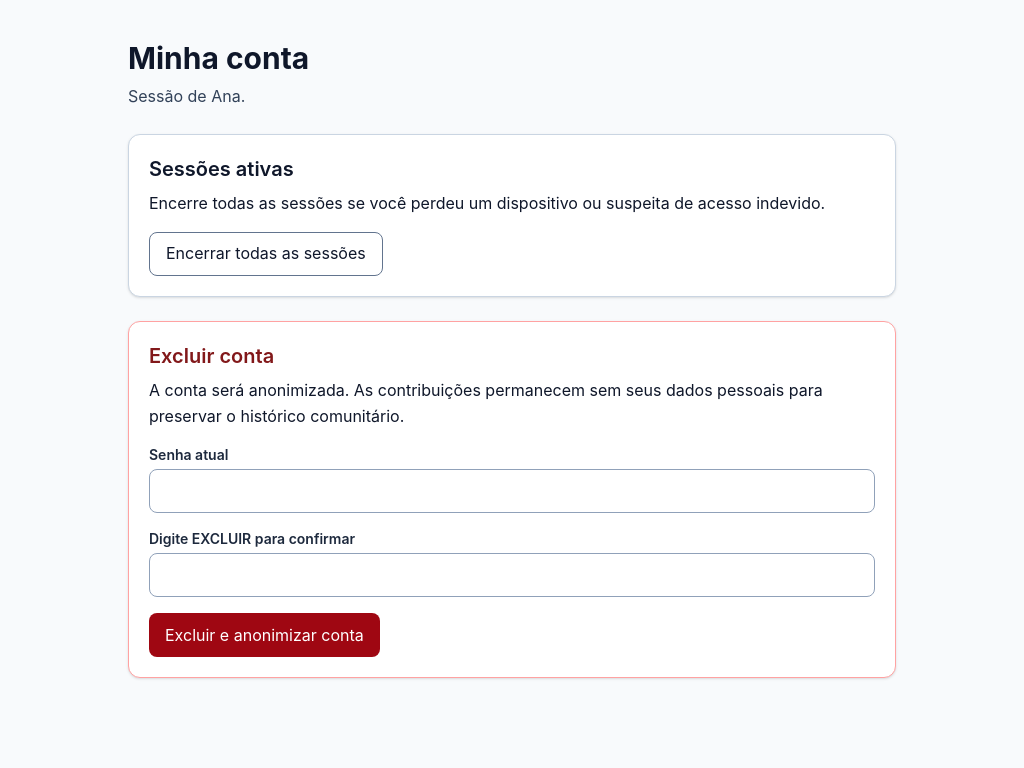
Conta › mostra erro devolvido pela exclusão
The image size is (1024, 768).
Type "Senha123" into the password field labelled "Senha atual".
click(512, 491); type("Senha123")  # box [149,469,875,513]
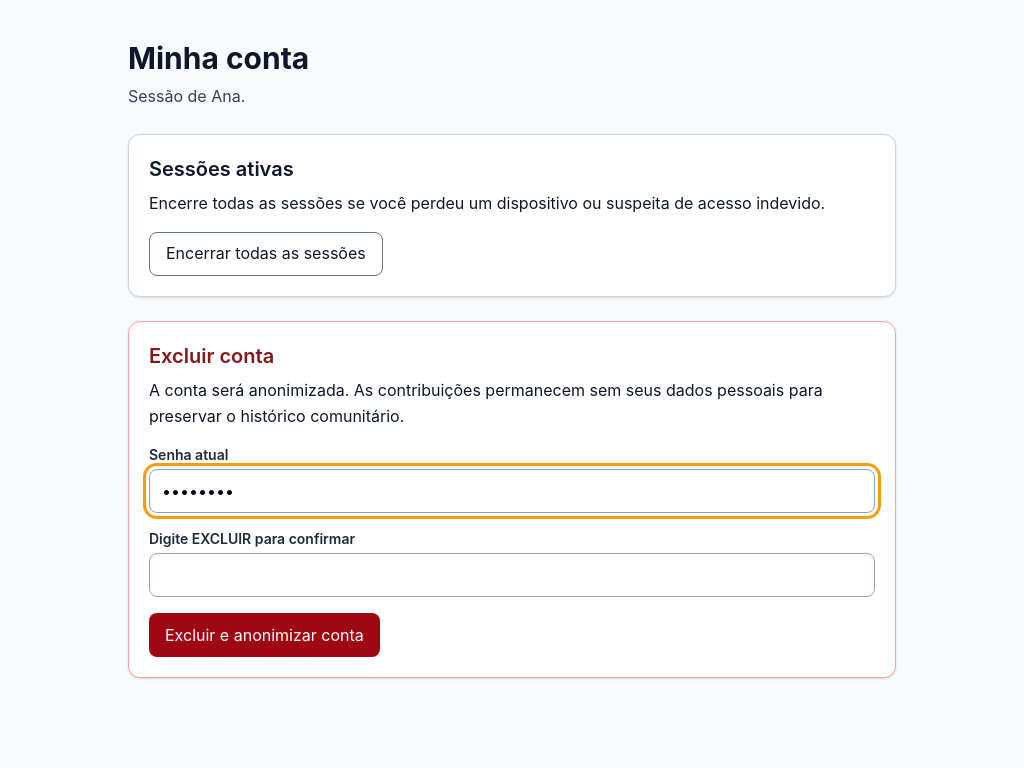
Type "EXCLUIR" into the field labelled "Digite EXCLUIR para confirmar".
click(512, 575); type("EXCLUIR")  # box [149,553,875,597]
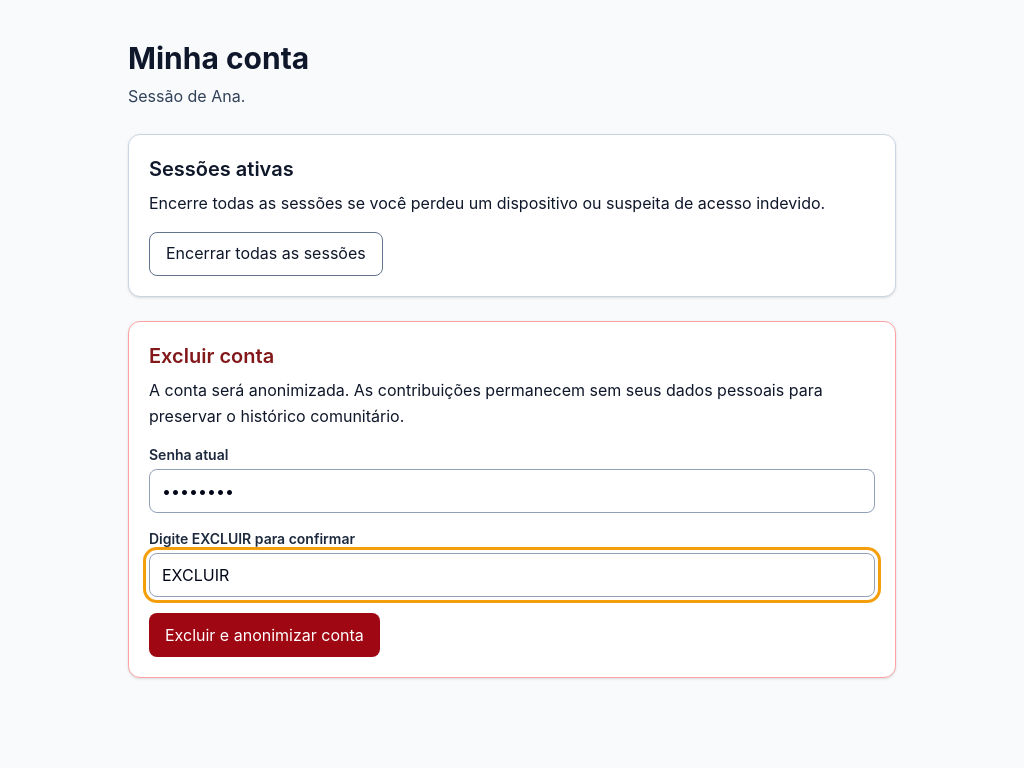
Click the button "Excluir e anonimizar conta".
click(264, 635)  # box [149,613,380,657]
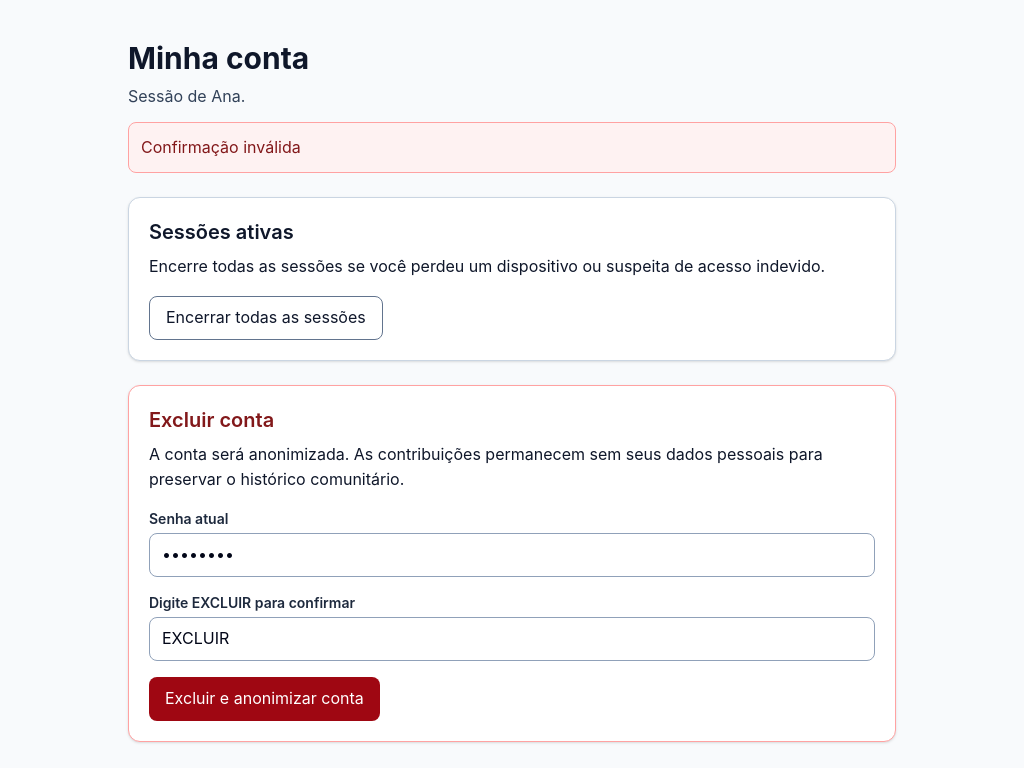
Expected: the message reads "Confirmação inválida", [141,137,301,157]
